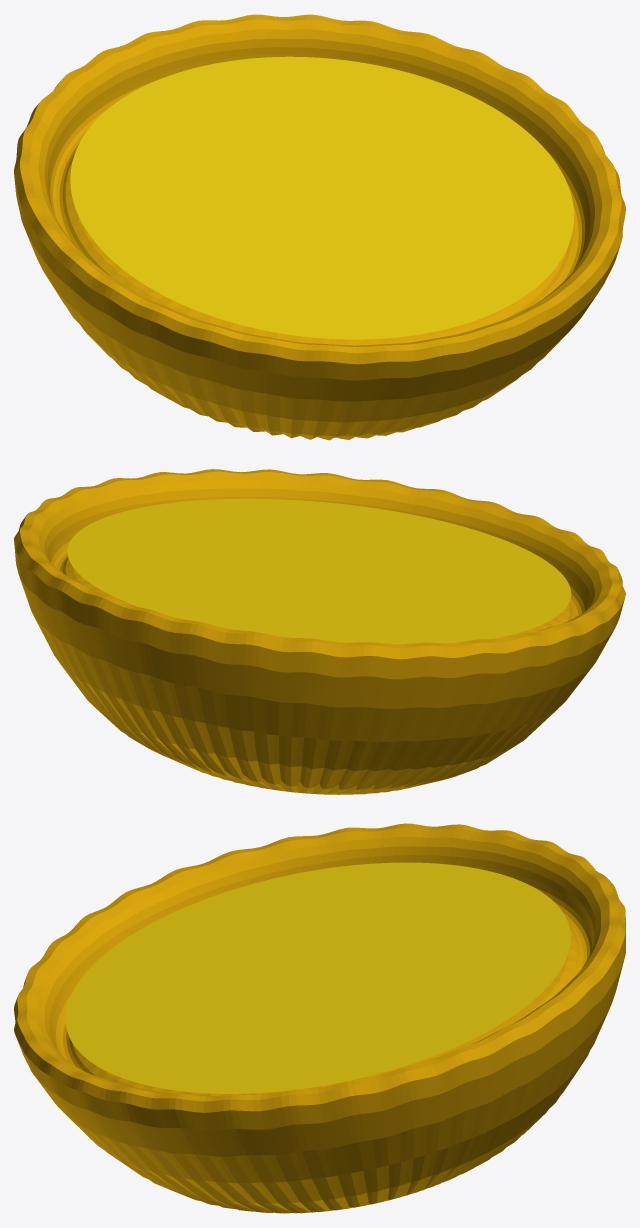
File: Eggtart.fbx
3 renders of one model, top to bottom at view 1: azimuth 30°, elevation 25°; view 2: azimuth 150°, elevation 25°; view 3: azimuth 270°, elevation 25°, orthographic.
Visible parts, largest first — view 1: Eggtart.001; view 2: Eggtart.001; view 3: Eggtart.001.
Part boxes in pixels (x1,y1,x2,y2): Eggtart.001: (14, 14, 625, 440); Eggtart.001: (14, 469, 625, 794); Eggtart.001: (14, 823, 625, 1213).
Size of the model in its own units: 7.37 by 3.43 by 7.26.
